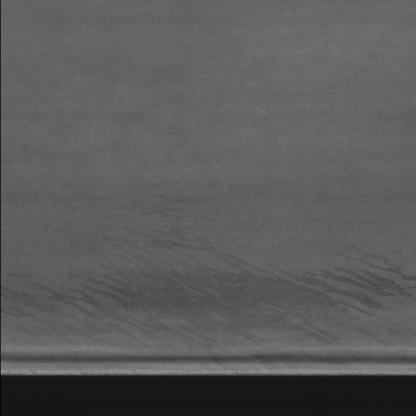water_spot: (0, 237, 408, 349)
